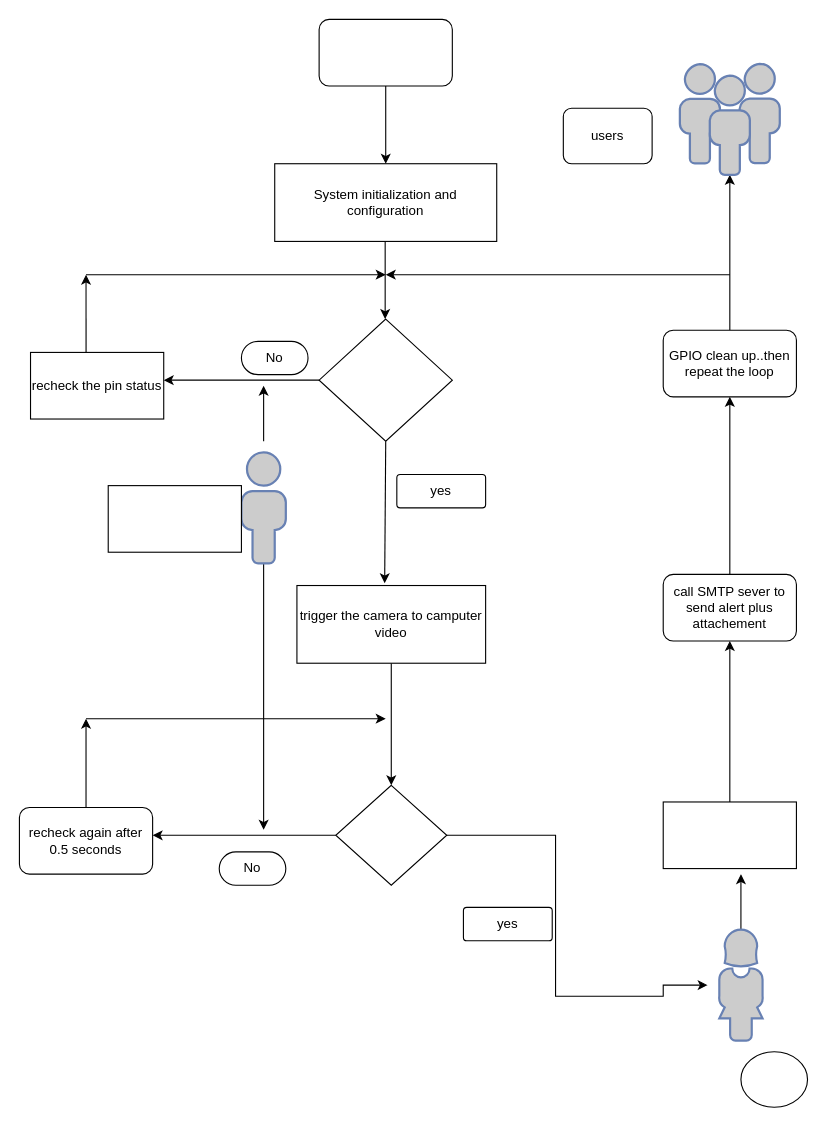
Image size: 827x1127. Some labels were removed from this diagram. The box of each missing label's shape, as (x1, y1, x2, y2) in pixels:
admin: (740, 1051, 808, 1107)
Being attacked by hackers: (107, 485, 241, 552)
generate MIME message consruct and attachment: (662, 801, 796, 869)
is internet available: (335, 784, 447, 885)
Is motion detected?: (318, 318, 452, 441)
start: (318, 18, 452, 86)
